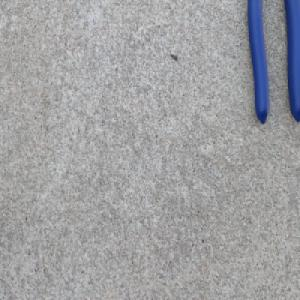Pliers: (244, 0, 300, 127)
